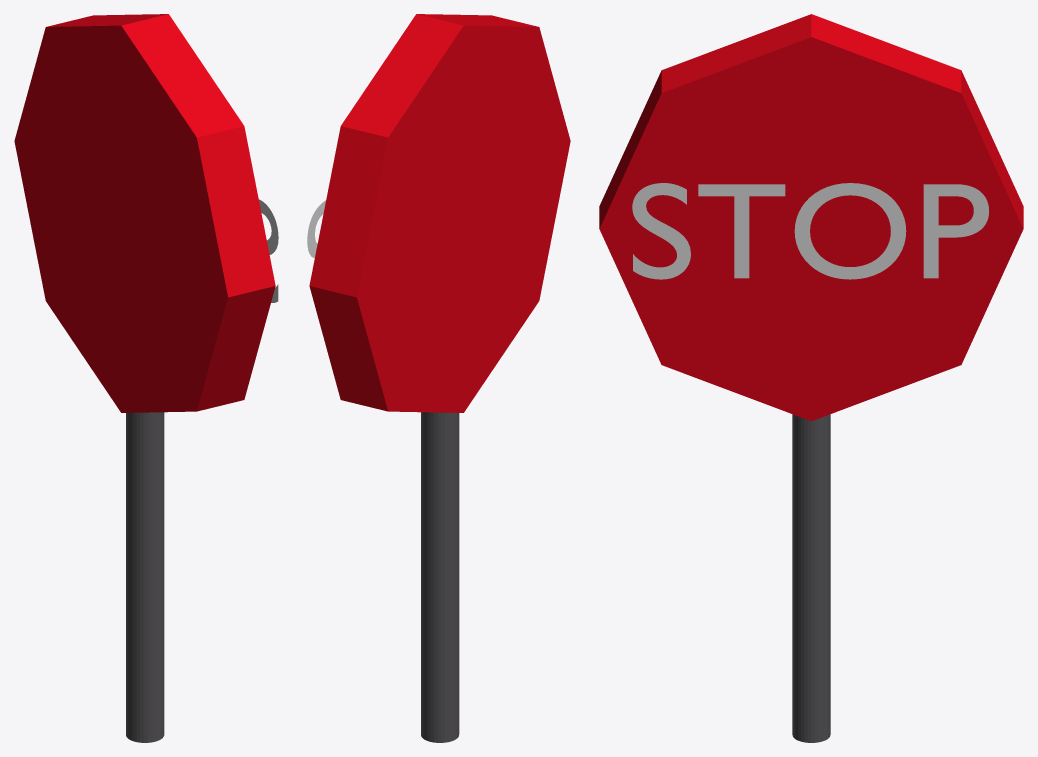
The model's file is stopSign.fbx.
The picture shows the model from 3 angles, left to right: view 1: azimuth 30°, elevation 25°; view 2: azimuth 150°, elevation 25°; view 3: azimuth 270°, elevation 25°; orthographic projection.
Parts seen in each view (by area): view 1: Cylinder.001, Cylinder, Text; view 2: Cylinder.001, Cylinder, Text; view 3: Cylinder.001, Cylinder, Text.
Part boxes in pixels (<box>): Cylinder.001: <box>14,14,275,412</box>; Cylinder: <box>126,412,164,742</box>; Text: <box>259,199,278,302</box>; Cylinder.001: <box>309,14,570,412</box>; Cylinder: <box>421,412,459,742</box>; Text: <box>307,200,325,258</box>; Cylinder.001: <box>599,14,1023,421</box>; Cylinder: <box>792,414,830,742</box>; Text: <box>632,183,988,279</box>.
Size of the model in its own units: 40.31 by 411 by 223.
